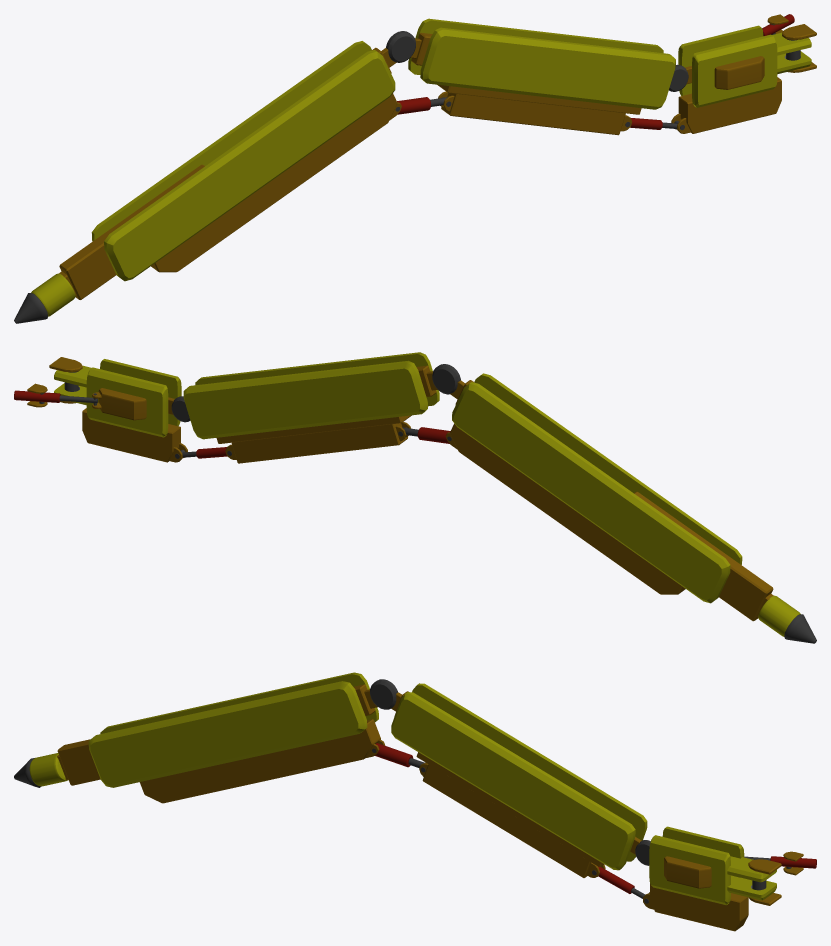
3 renders of one model, top to bottom at view 1: azimuth 30°, elevation 25°; view 2: azimuth 150°, elevation 25°; view 3: azimuth 330°, elevation 25°, orthographic. The views are drawn at different scales.
Parts seen in each view (by area): view 1: polySurface446 (×4); view 2: polySurface446 (×4); view 3: polySurface446 (×4).
Boxes of the visible parts, x1,y1,x2,y2 form: polySurface446 (×4): (14,14,816,323); polySurface446 (×4): (14,352,816,643); polySurface446 (×4): (14,672,816,931).
Bounding box in the file's own units: 23.79 × 5.57 × 2.48.
